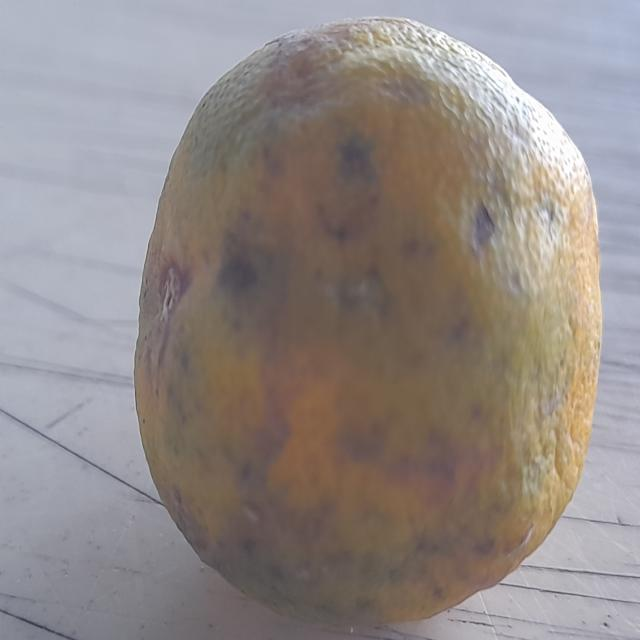black spot: (132, 16, 604, 618)
